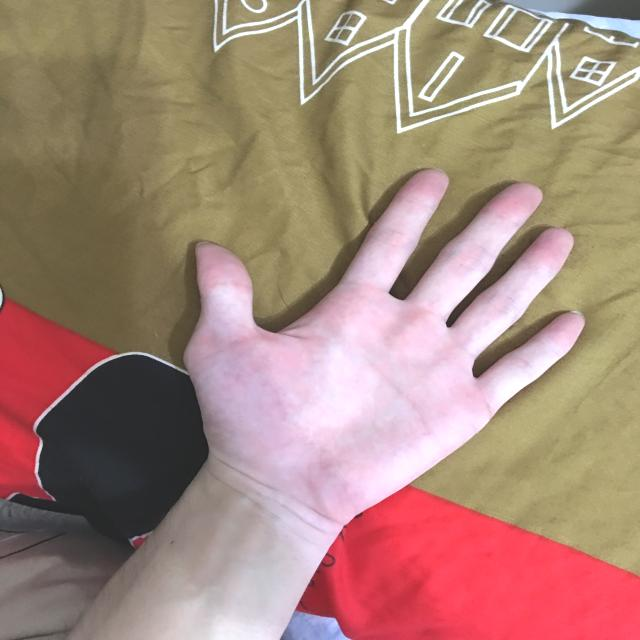no_glove: (165, 156, 593, 561)
